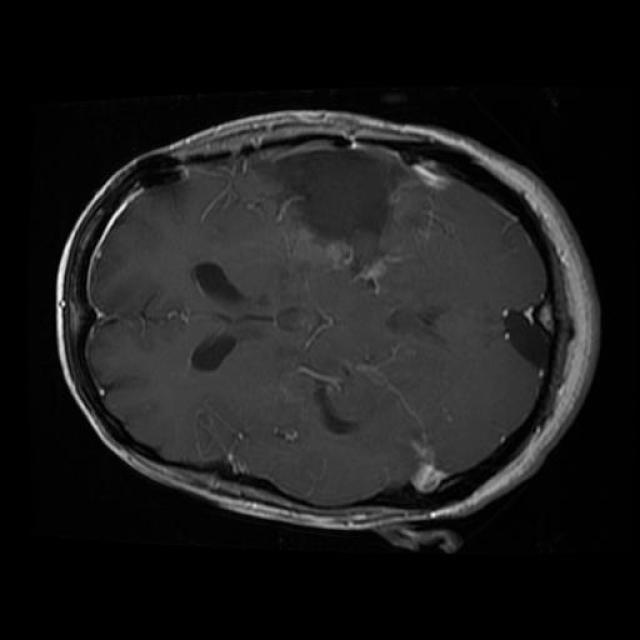Glioma: (252, 147, 406, 269)
